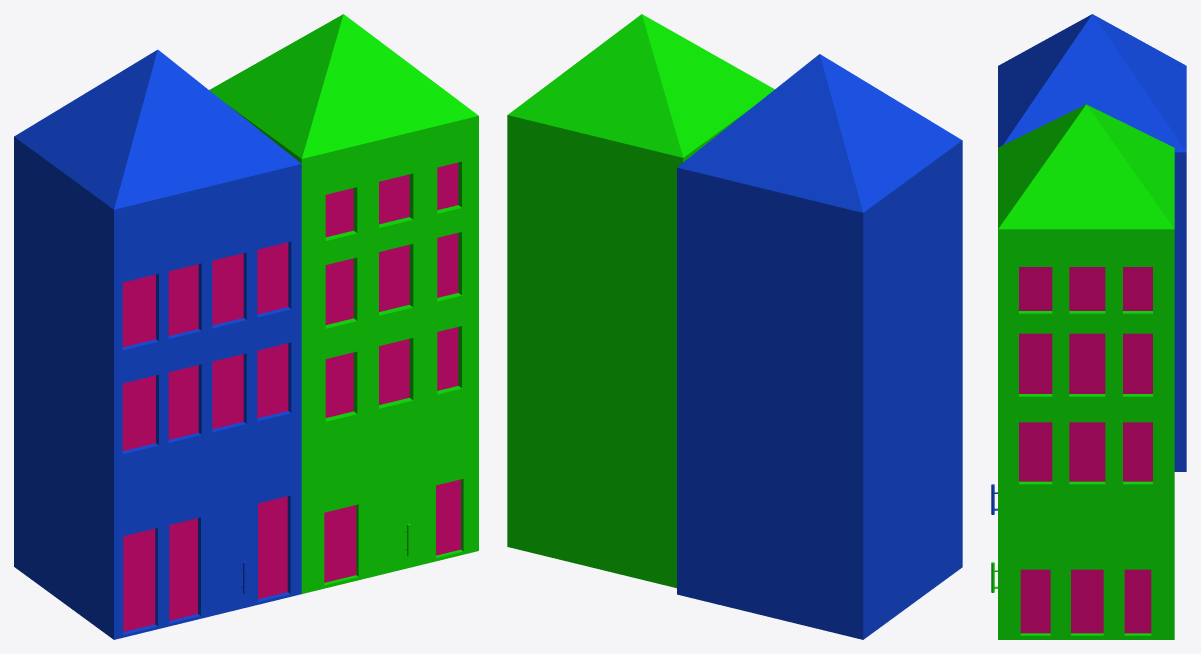
File: huis 2.fbx
3 renders of one model, left to right at view 1: azimuth 30°, elevation 25°; view 2: azimuth 150°, elevation 25°; view 3: azimuth 270°, elevation 25°, orthographic. The views are drawn at different scales.
Parts seen in each view (by area): view 1: huis 1; view 2: huis 1; view 3: huis 1.
Part boxes in pixels (<box>): huis 1: <box>14,14,478,639</box>; huis 1: <box>507,14,962,639</box>; huis 1: <box>991,14,1186,639</box>.
Bounding box in the file's own units: 575 × 800 × 283.
